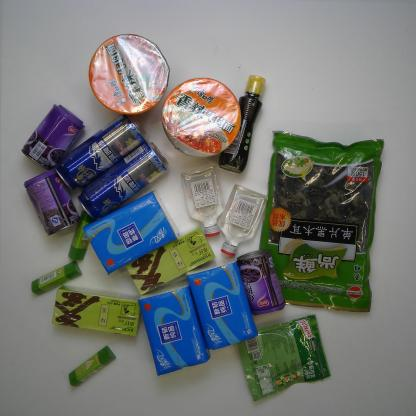Alcohol: (53, 113, 148, 191), (77, 141, 169, 221), (218, 182, 268, 258), (180, 166, 226, 238)
Canned Food: (19, 103, 87, 170), (23, 168, 81, 238), (236, 248, 286, 316)
Dried Food: (258, 130, 385, 314)
Instant Drink: (124, 225, 216, 296), (52, 285, 141, 336)
Instant Noodles: (88, 32, 171, 116), (160, 76, 244, 158)
Seasoner: (235, 314, 332, 402), (218, 74, 266, 174)
Stationery: (68, 344, 116, 388), (31, 261, 83, 296), (68, 210, 95, 262)
Tissue: (82, 189, 180, 276), (137, 278, 211, 377), (185, 256, 259, 351)
